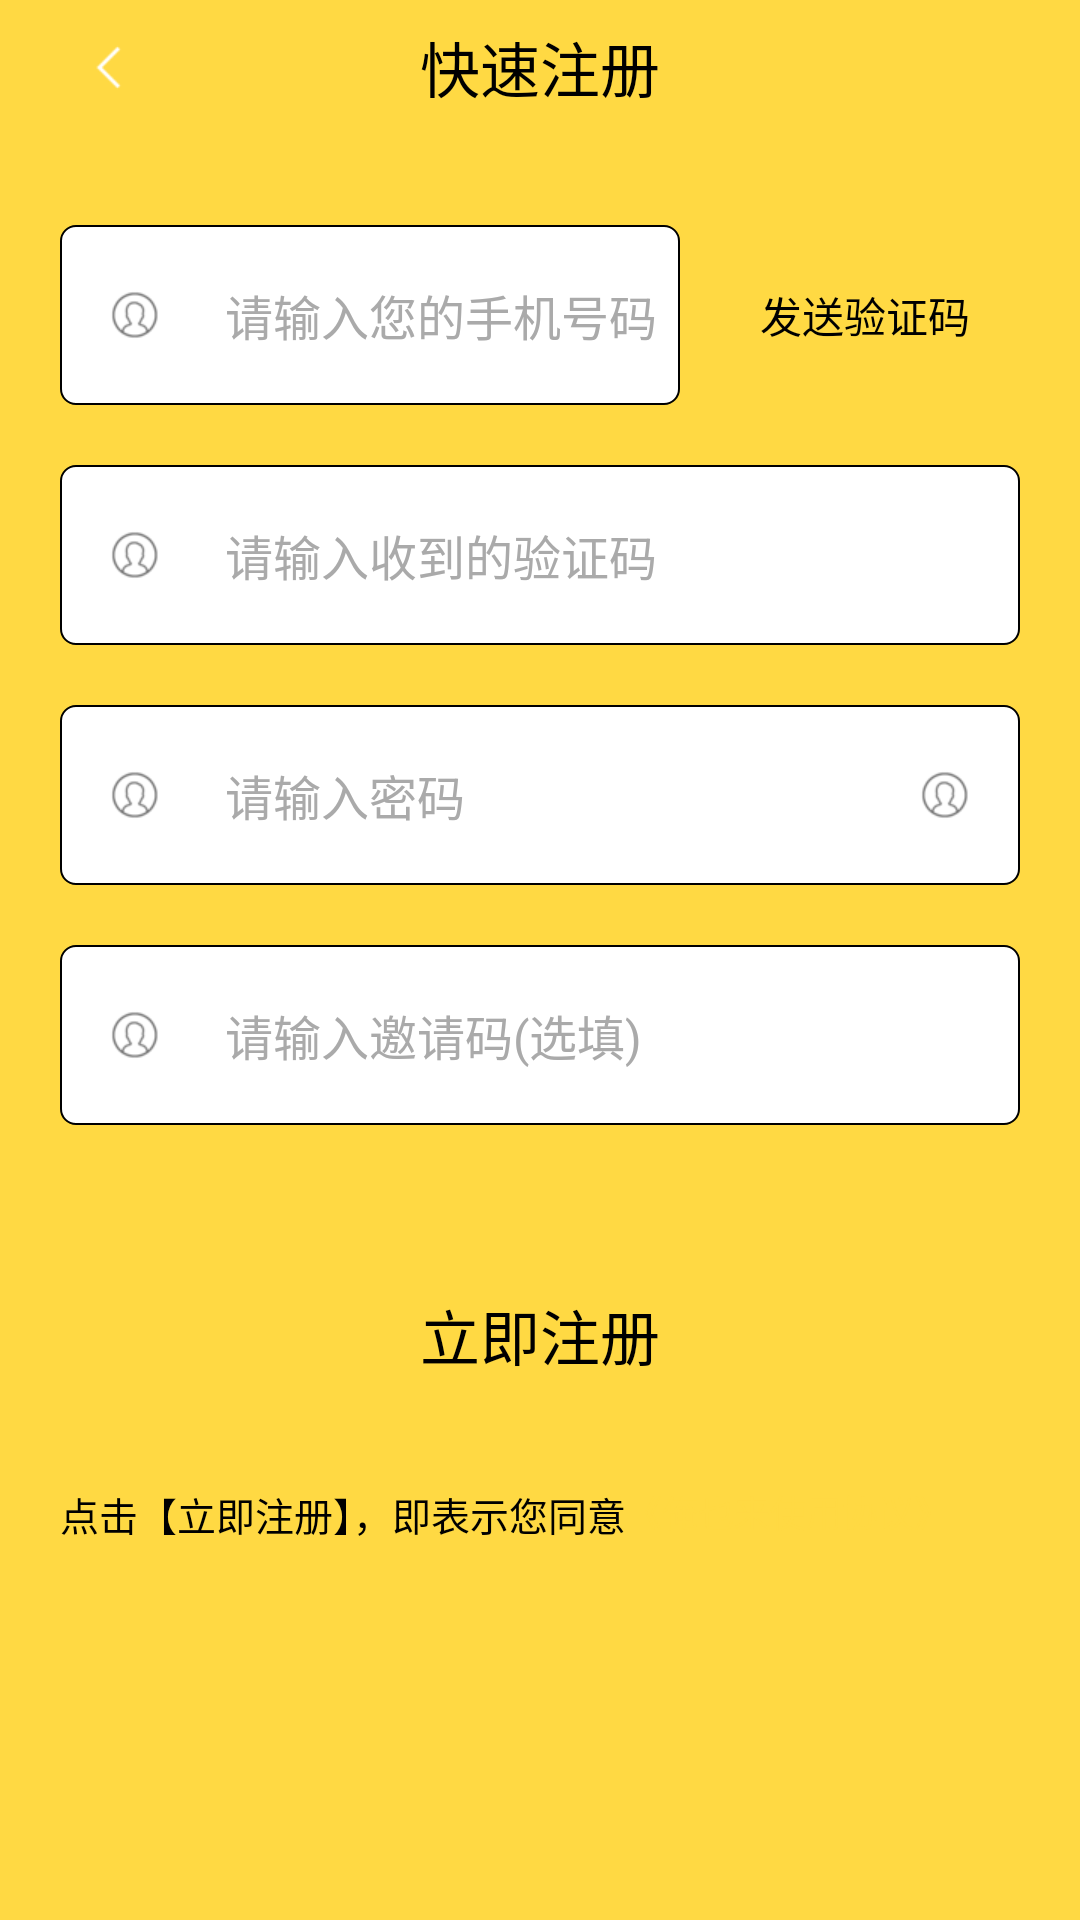

Named icons in this screenshot (1080px x 1920px) and their centers, [x,y]:
back: [108,67]
self: [135,315], [135,555], [135,795], [945,795], [135,1035]
